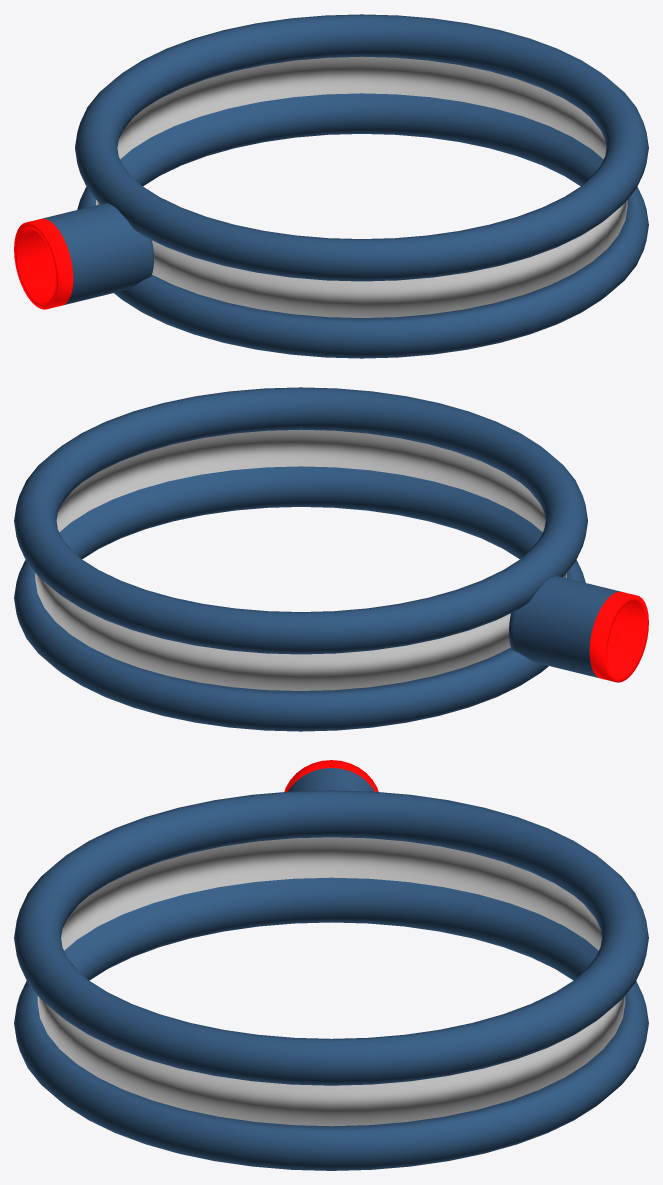
The model's file is Turret.fbx.
3 views of the same model, one above another, from view 1: azimuth 30°, elevation 25°; view 2: azimuth 150°, elevation 25°; view 3: azimuth 270°, elevation 25° (orthographic). The views are drawn at different scales.
Visible parts, largest first — view 1: Torus.001; view 2: Torus.001; view 3: Torus.001.
Part boxes in pixels (bbox=[...]): Torus.001: bbox=[14, 14, 648, 358]; Torus.001: bbox=[14, 387, 648, 731]; Torus.001: bbox=[14, 760, 648, 1170].
Bounding box in the file's own units: 624 × 120 × 540.
